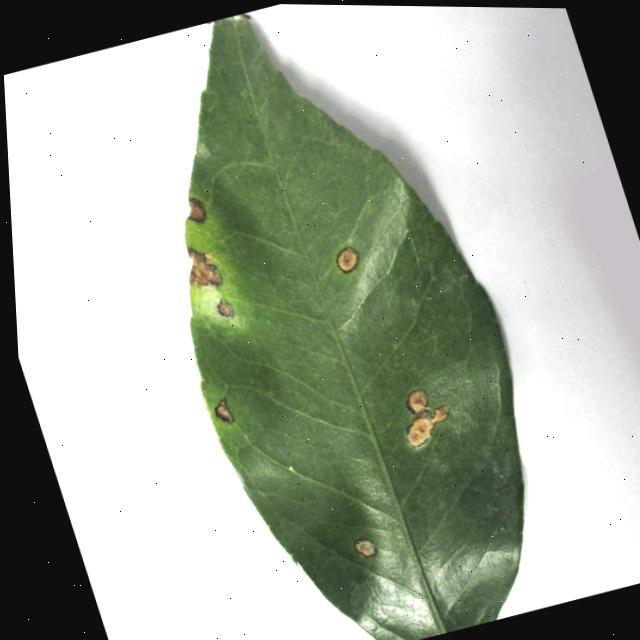antracnose: (183, 12, 522, 640), (187, 249, 220, 286), (406, 417, 433, 447), (405, 389, 427, 414), (335, 248, 357, 273), (187, 198, 205, 223), (213, 400, 232, 423), (353, 539, 375, 557), (430, 406, 448, 424), (215, 300, 232, 318)
